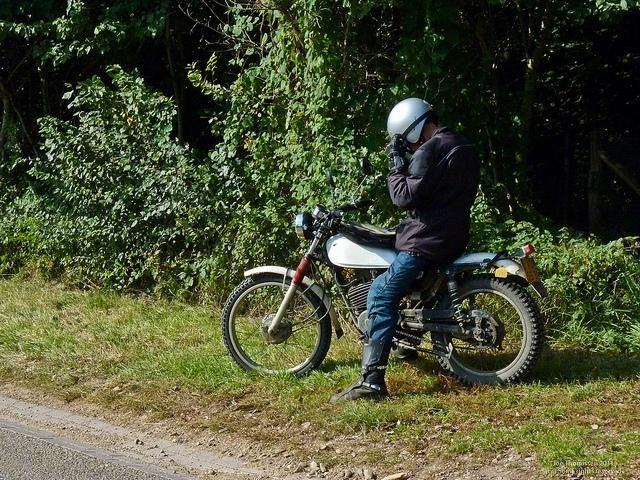motorcycle: (222, 197, 542, 386)
